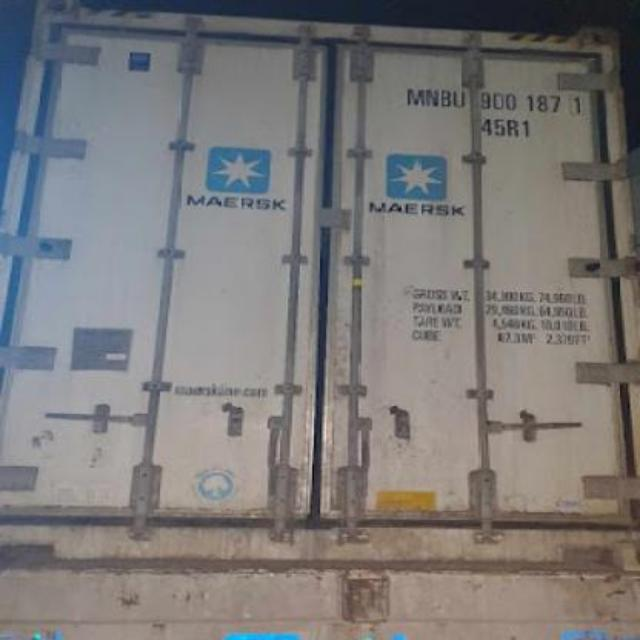0: (504, 91, 518, 112), (491, 90, 504, 112)
1: (572, 94, 586, 116), (524, 93, 536, 113)
7: (548, 93, 564, 113)
8: (536, 93, 550, 113)
9: (480, 88, 492, 112)
B: (441, 88, 454, 109)
M: (406, 85, 424, 106)
N: (424, 88, 440, 108)
U: (452, 90, 468, 110)
